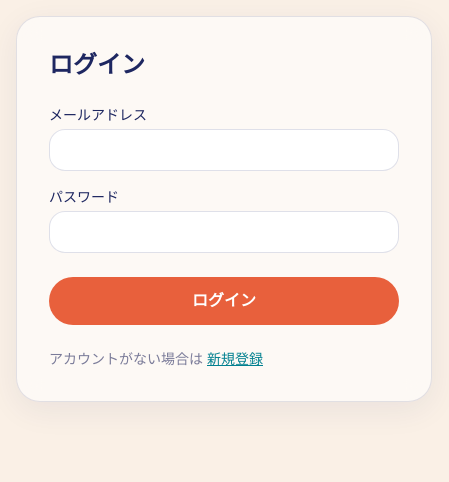
Scenario: LoginPage (結合寄り) › 不正なメール形式でエラー
Expected: the heading "ログイン" is shown, [49,51,145,78]
Type "not-an-email" into the field. click: (224, 150)
box: [49,129,399,171]
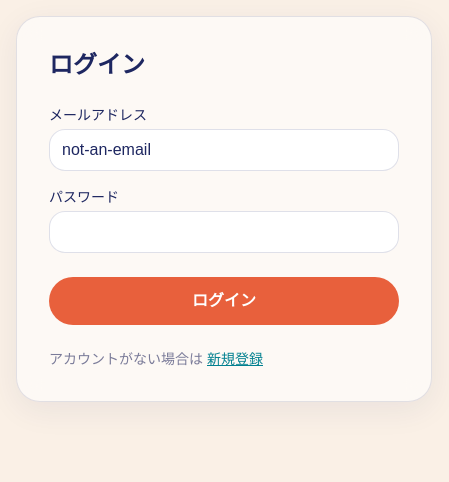
Type "password123" into the password field. click: (224, 232)
box: [49,211,399,253]
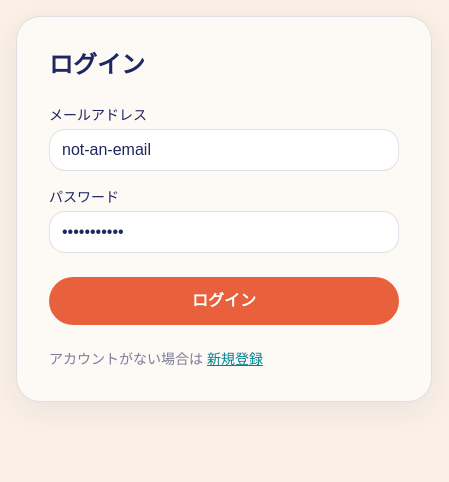
Click the button "ログイン". click: click(224, 301)
box: [49,277,399,325]
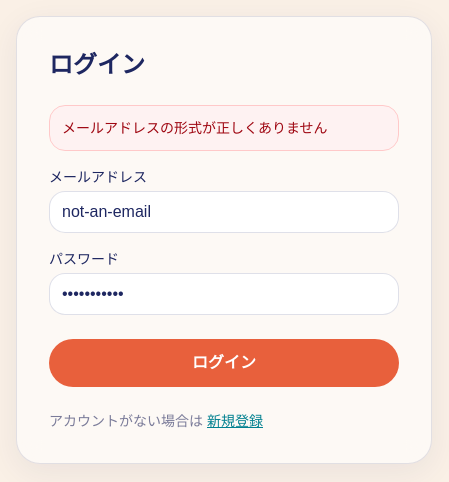
Expected: the text "メールアドレスの形式が正しくありません" is shown, [49,105,399,151]
